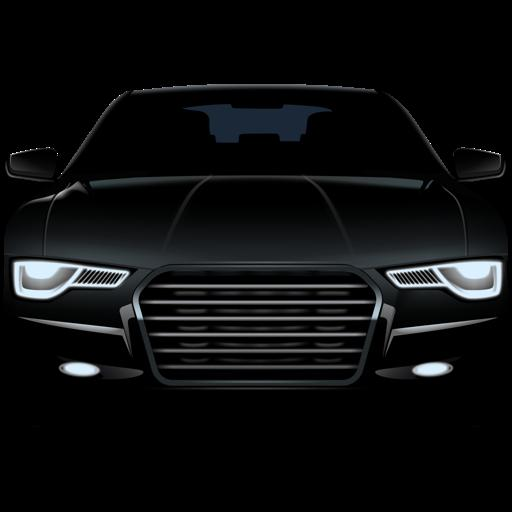car: (473, 374, 477, 377), (472, 365, 473, 367)
sedan: (3, 86, 506, 387)
